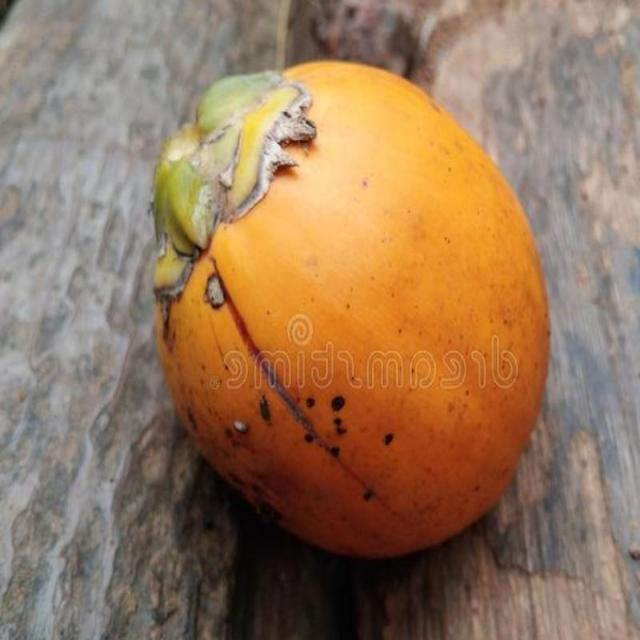good: (152, 61, 551, 563)
